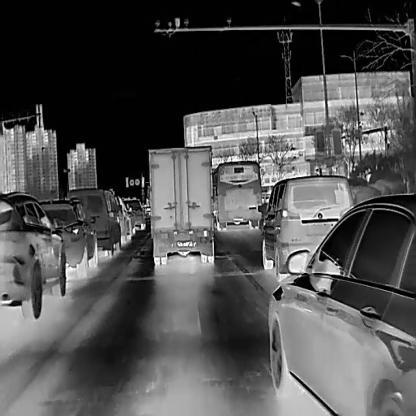car: (267, 191, 416, 415), (256, 175, 355, 283), (0, 189, 66, 319), (146, 144, 214, 265), (35, 196, 100, 276), (65, 185, 122, 257), (209, 158, 263, 231), (122, 198, 146, 229)
